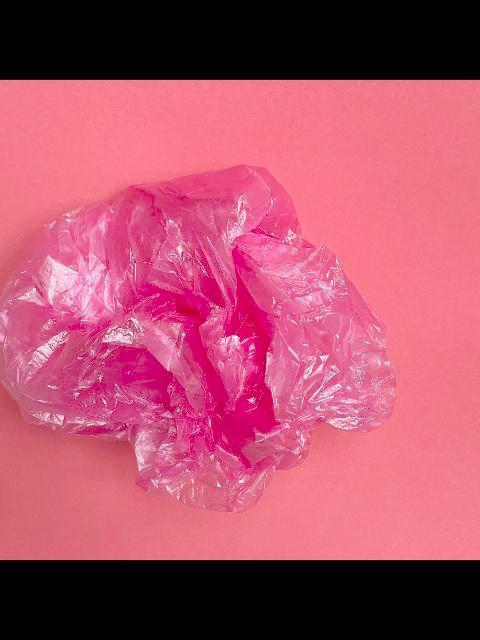plasticbag: (0, 164, 400, 514)
